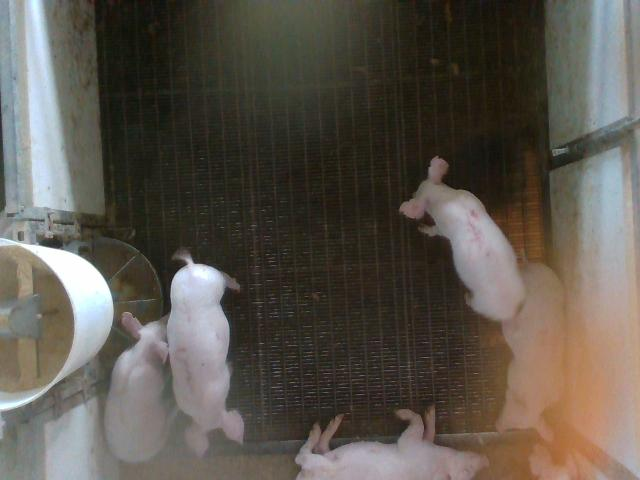pig-5: (400, 156, 525, 321)
